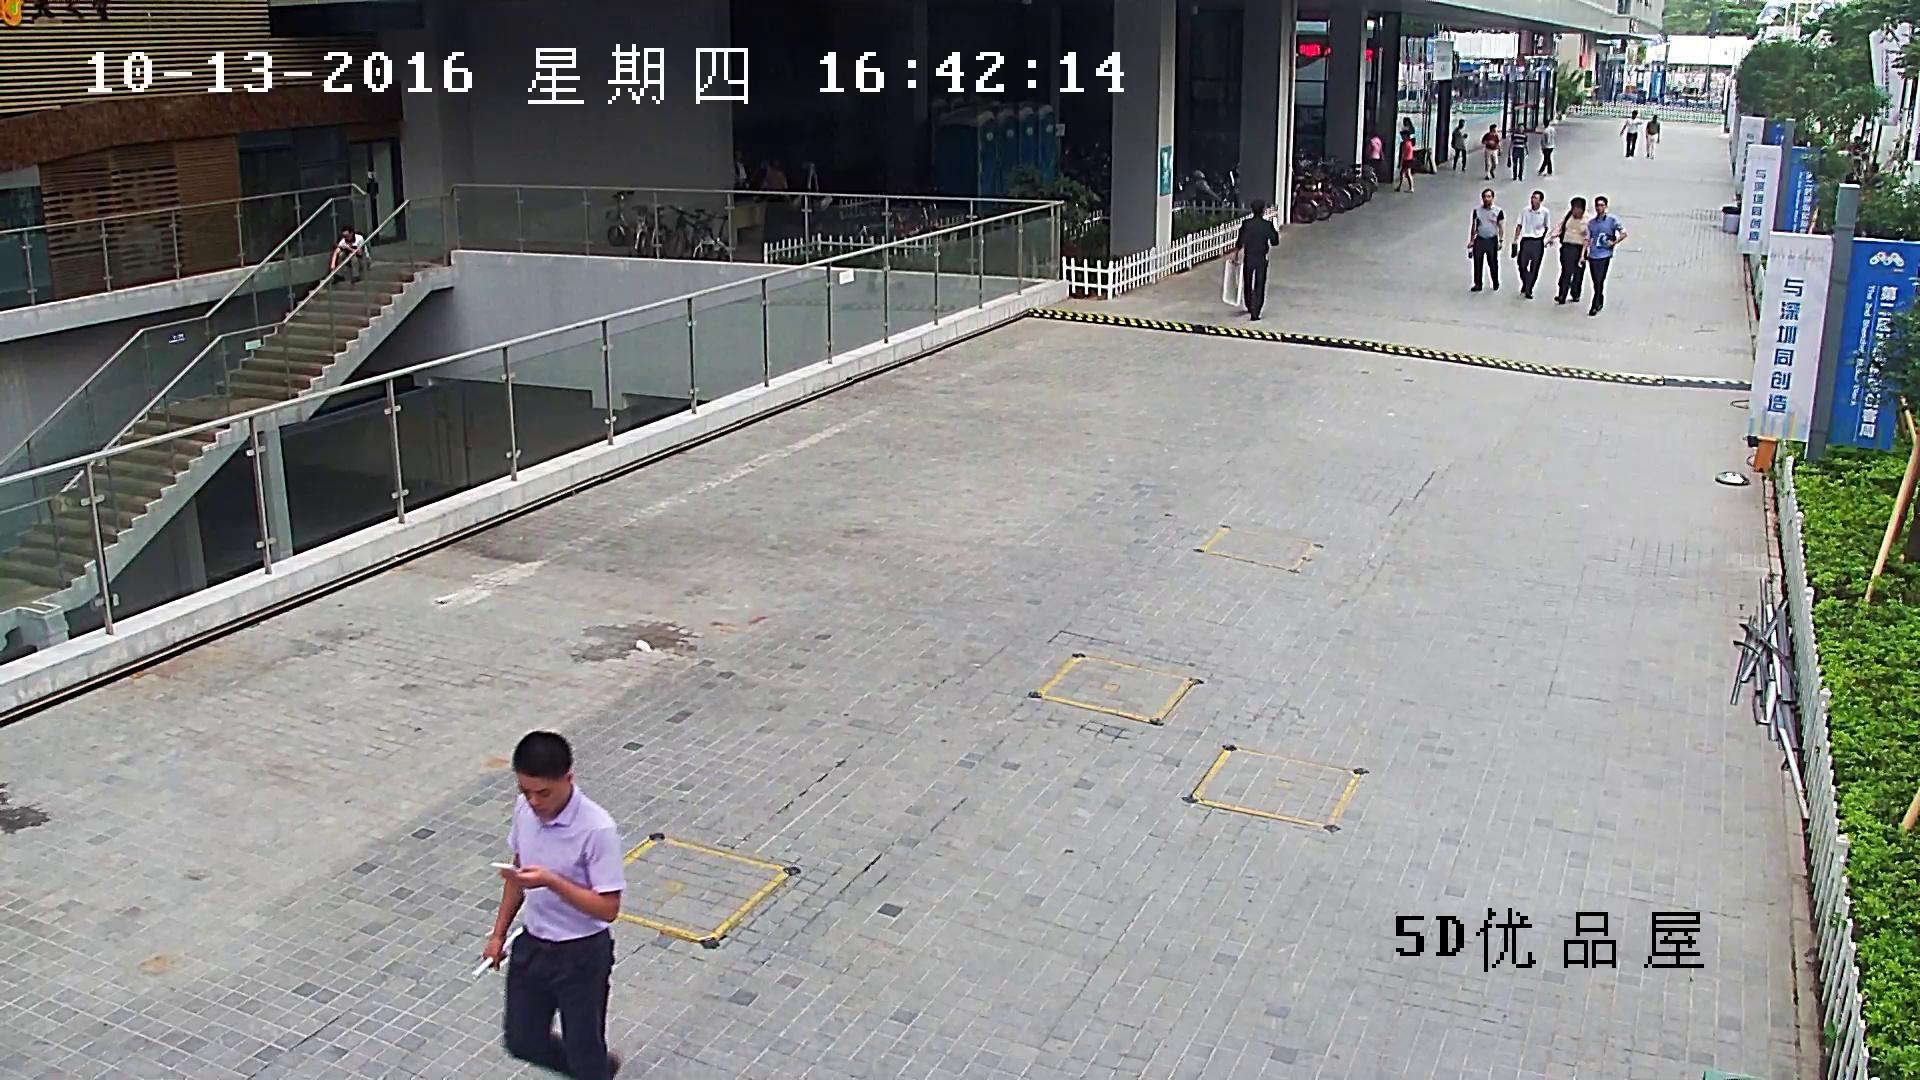person: (471, 730, 623, 1080), (1221, 199, 1280, 320), (1230, 199, 1279, 320), (1588, 195, 1627, 316), (1511, 190, 1550, 299), (1468, 189, 1504, 291), (1554, 197, 1588, 304), (329, 225, 371, 284), (1506, 123, 1528, 182), (1393, 130, 1414, 192), (1481, 124, 1501, 180), (1619, 109, 1642, 157), (1536, 119, 1555, 176), (1364, 130, 1382, 182), (1451, 119, 1467, 170), (1645, 114, 1660, 159), (1400, 116, 1416, 145)
